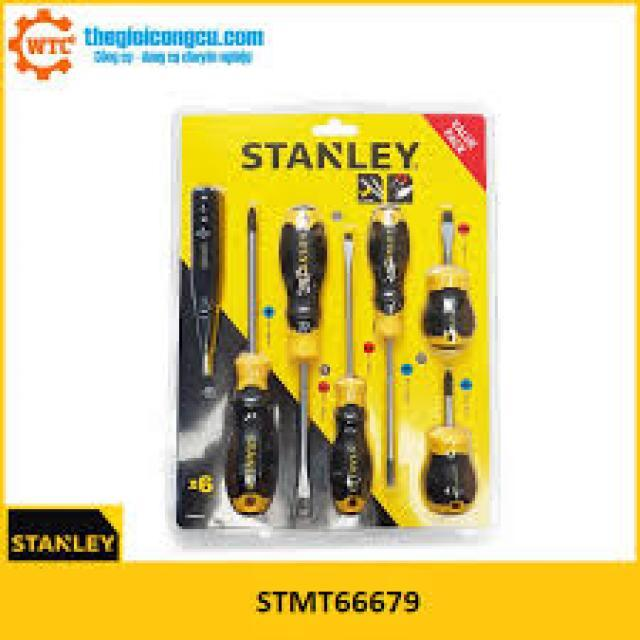screwdriver: (272, 204, 332, 524), (222, 205, 276, 518), (364, 201, 412, 502), (328, 234, 368, 516), (417, 202, 482, 350), (420, 364, 480, 515)
